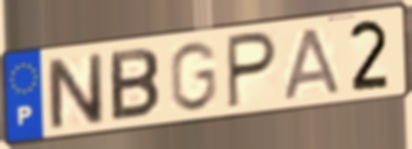2: (348, 18, 390, 93)
A: (281, 24, 343, 102)
B: (108, 45, 162, 124)
G: (166, 39, 220, 114)
N: (43, 50, 108, 132)
P: (225, 29, 280, 112)
